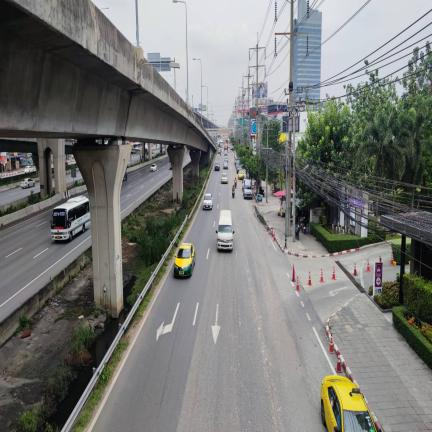bus: (51, 196, 90, 241)
car: (243, 184, 253, 199), (203, 194, 212, 209), (242, 178, 252, 190), (221, 172, 228, 183), (236, 163, 242, 173), (234, 158, 240, 166), (150, 163, 156, 171), (215, 162, 220, 170), (223, 162, 228, 168), (224, 158, 228, 162)
motorbike: (300, 217, 306, 234), (295, 225, 300, 239), (234, 180, 237, 188), (232, 190, 234, 198)
taxi: (321, 375, 380, 432), (174, 243, 195, 276), (238, 169, 245, 179)
van: (216, 210, 234, 250)
